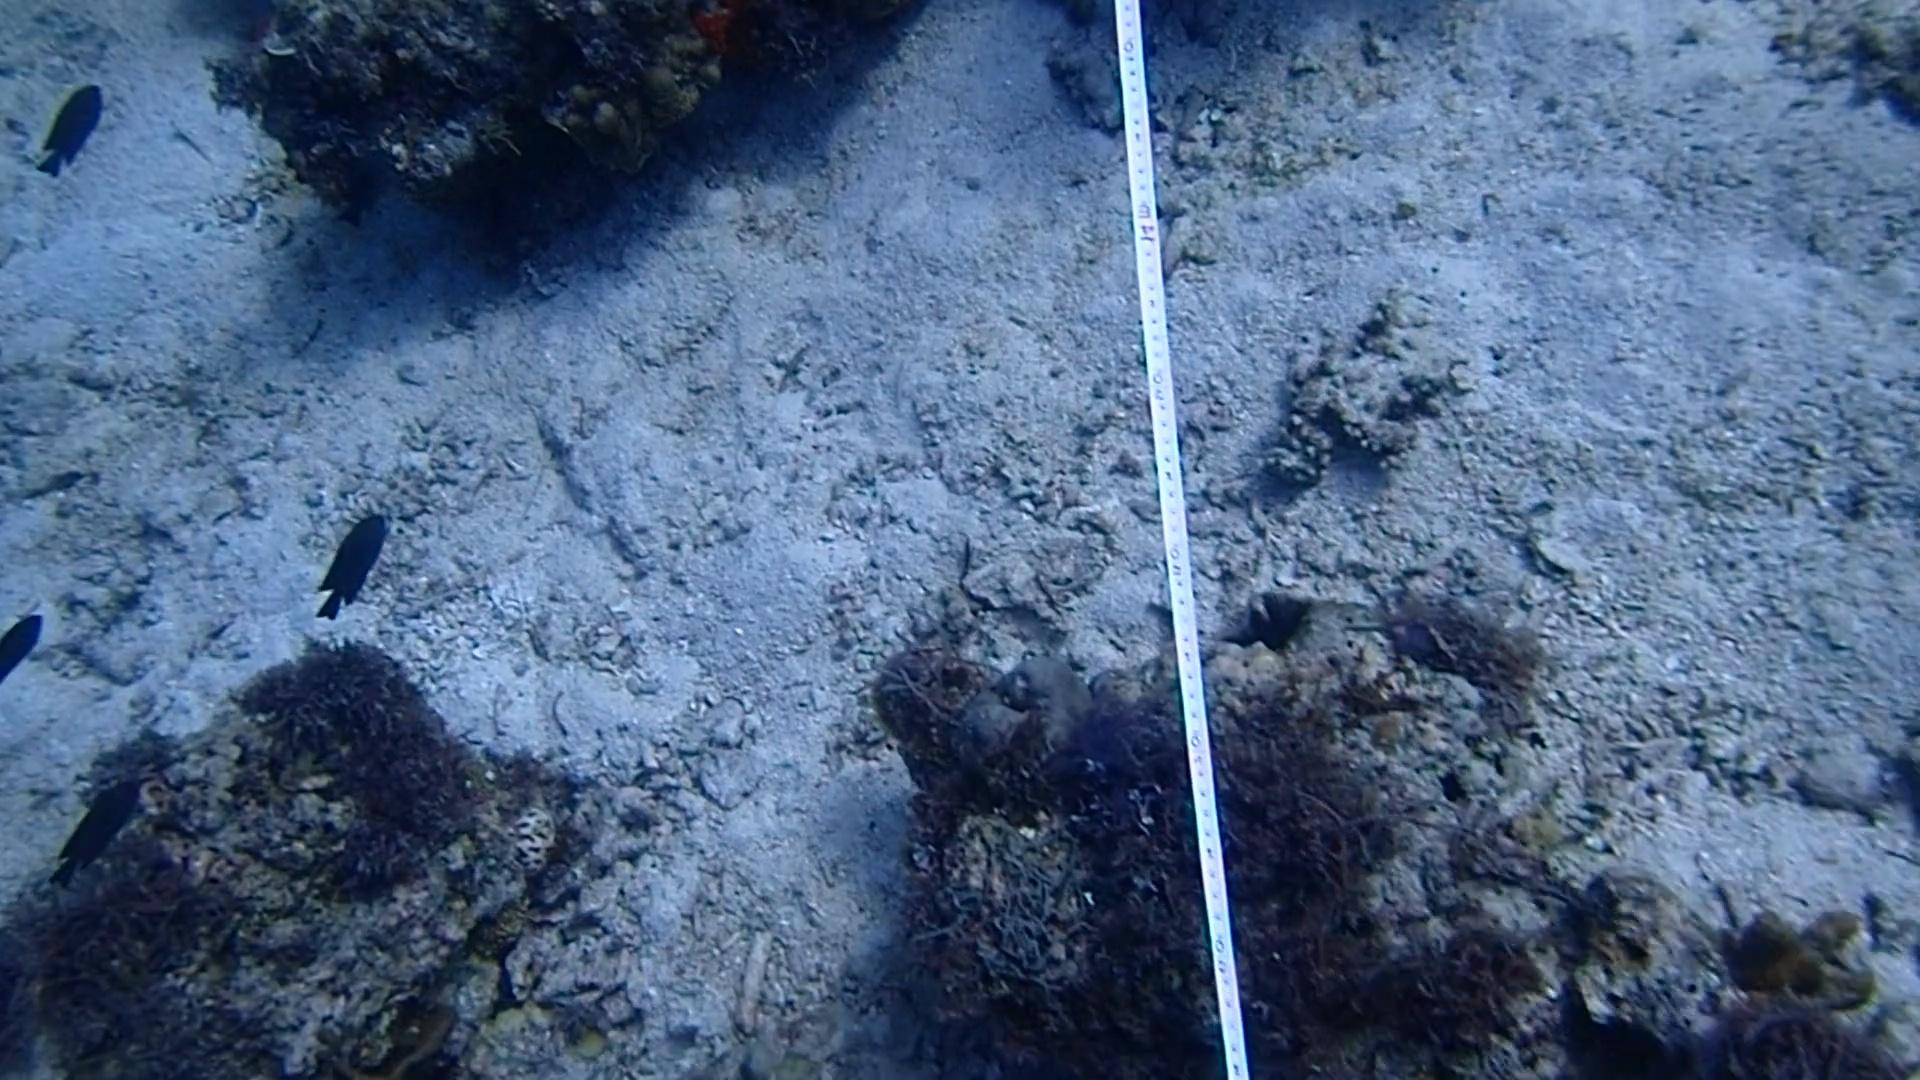Dark Fish: (47, 766, 148, 894), (303, 500, 398, 628), (36, 71, 119, 190), (0, 597, 55, 692)
